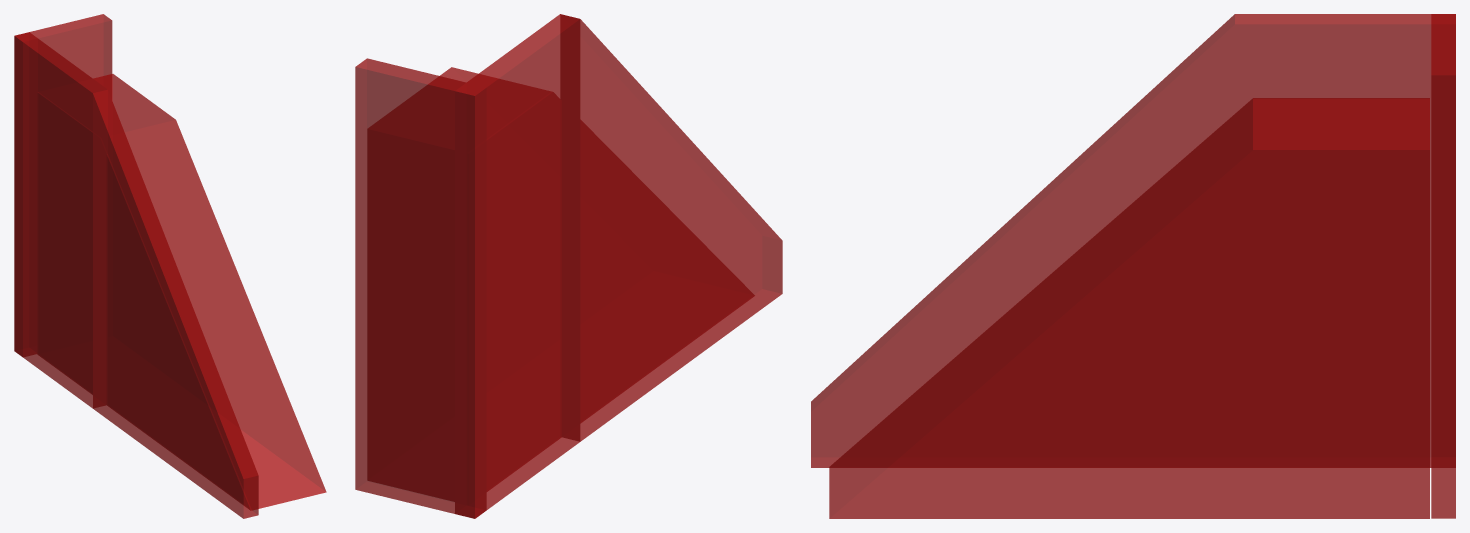
File: SM_Bld_Shop_08_Stairs_Collision.fbx
The picture shows the model from 3 angles, left to right: view 1: azimuth 30°, elevation 25°; view 2: azimuth 150°, elevation 25°; view 3: azimuth 270°, elevation 25°; orthographic projection. The views are drawn at different scales.
Visible parts, largest first — view 1: SM_Bld_Shop_08_Stairs_Collision; view 2: SM_Bld_Shop_08_Stairs_Collision; view 3: SM_Bld_Shop_08_Stairs_Collision.
Part boxes in pixels (x1=…): SM_Bld_Shop_08_Stairs_Collision: x1=14, y1=14, x2=326, y2=518; SM_Bld_Shop_08_Stairs_Collision: x1=355, y1=14, x2=782, y2=518; SM_Bld_Shop_08_Stairs_Collision: x1=811, y1=14, x2=1455, y2=518.
Bounding box in the file's own units: 149 × 500 × 659.
